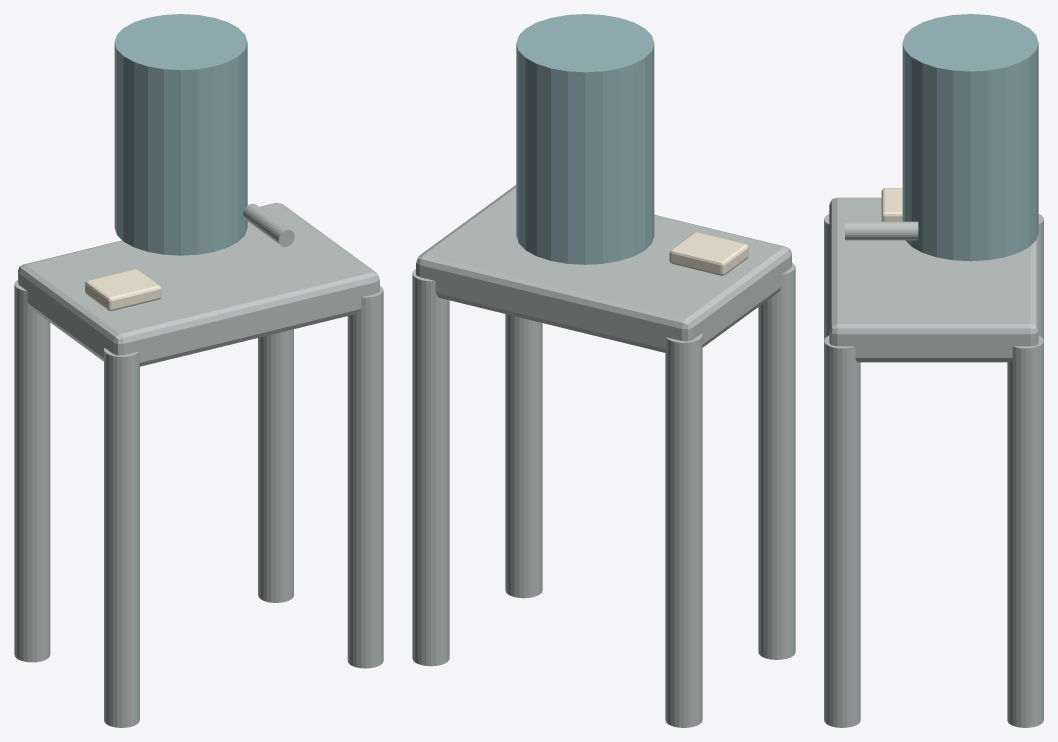
3 renders of one model, left to right at view 1: azimuth 30°, elevation 25°; view 2: azimuth 150°, elevation 25°; view 3: azimuth 270°, elevation 25°, orthographic. The views are drawn at different scales.
Visible parts, largest first — view 1: water reservoir, basin, support.002, support, support.001, support.003, soap tray, tap; view 2: water reservoir, basin, support.001, support.003, support, support.002, soap tray; view 3: water reservoir, basin, support.002, support.003, tap, soap tray, support, support.001.
Boxes of the visible parts, <box> form: water reservoir: <box>114,14,247,255</box>; basin: <box>18,203,379,366</box>; support.002: <box>347,286,383,668</box>; support: <box>104,348,139,727</box>; support.001: <box>14,280,50,662</box>; support.003: <box>258,329,293,602</box>; soap tray: <box>85,269,161,311</box>; tap: <box>243,203,294,246</box>; water reservoir: <box>516,14,654,264</box>; basin: <box>416,185,791,352</box>; support.001: <box>665,333,702,727</box>; support.003: <box>412,269,449,666</box>; support: <box>758,263,795,659</box>; support.002: <box>505,314,542,598</box>; soap tray: <box>669,232,748,275</box>; water reservoir: <box>902,14,1038,261</box>; basin: <box>829,197,1038,362</box>; support.002: <box>824,335,860,727</box>; support.003: <box>1007,335,1043,727</box>; tap: <box>845,221,918,240</box>; soap tray: <box>881,188,902,221</box>; support: <box>824,214,829,340</box>; support.001: <box>1038,214,1043,340</box>.
Size of the model in its own units: 0.62 by 1.3 by 0.42.
